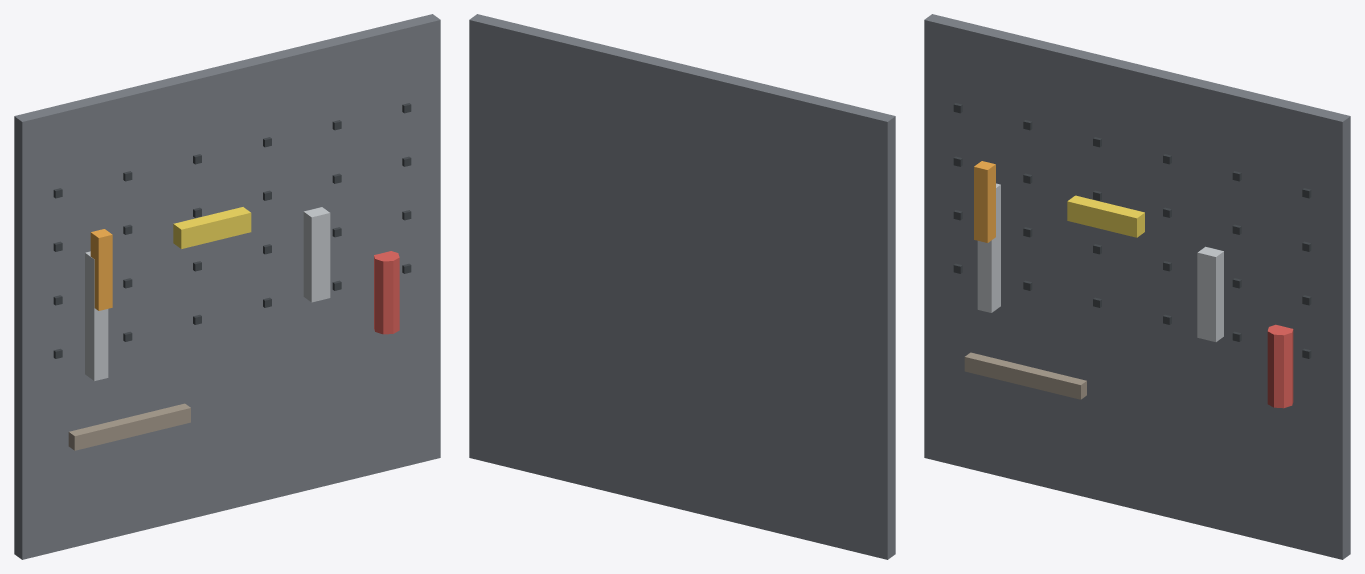
The model's file is tool-wall-panel.glb.
3 renders of one model, left to right at view 1: azimuth 30°, elevation 25°; view 2: azimuth 150°, elevation 25°; view 3: azimuth 330°, elevation 25°, orthographic.
Parts seen in each view (by area): view 1: tool-wall-panel; view 2: tool-wall-panel; view 3: tool-wall-panel.
Boxes of the visible parts, box(x1,y1,x2,y2) form: tool-wall-panel: box(14, 14, 440, 559); tool-wall-panel: box(469, 14, 895, 559); tool-wall-panel: box(924, 14, 1350, 559).
Bounding box in the file's own units: 1.8 × 1.8 × 0.16.
